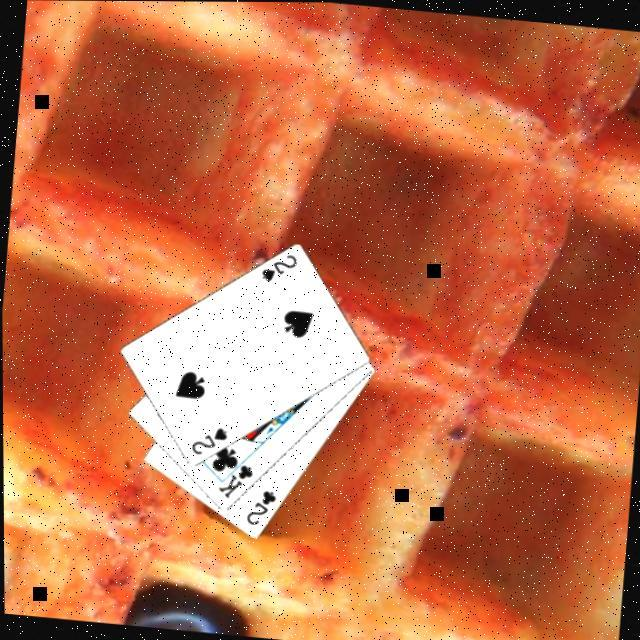2C: (242, 487, 280, 532)
2S: (188, 422, 232, 462), (258, 250, 302, 288)
KC: (215, 453, 258, 504)
